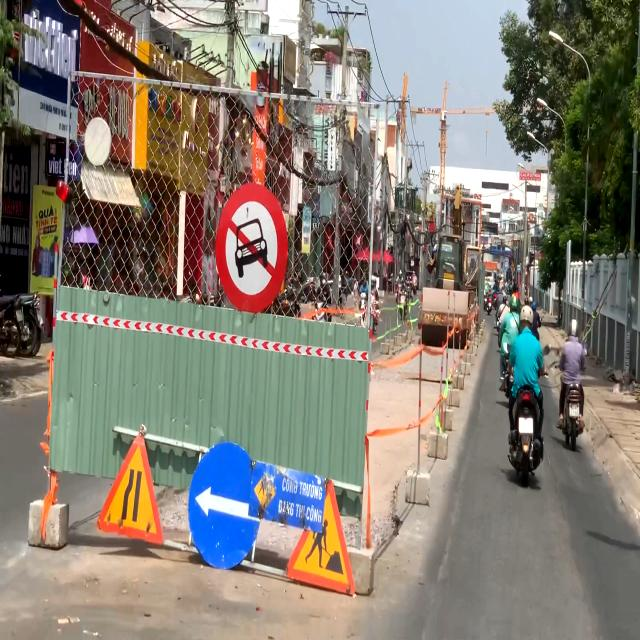P.103a: (218, 178, 289, 312)
R.301c: (190, 438, 259, 567)
W.203b: (94, 423, 168, 551)
